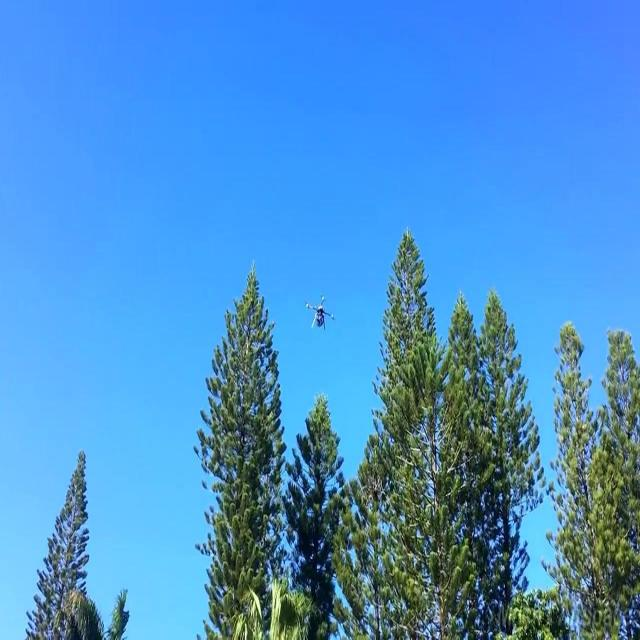UAV: (305, 294, 335, 331)
